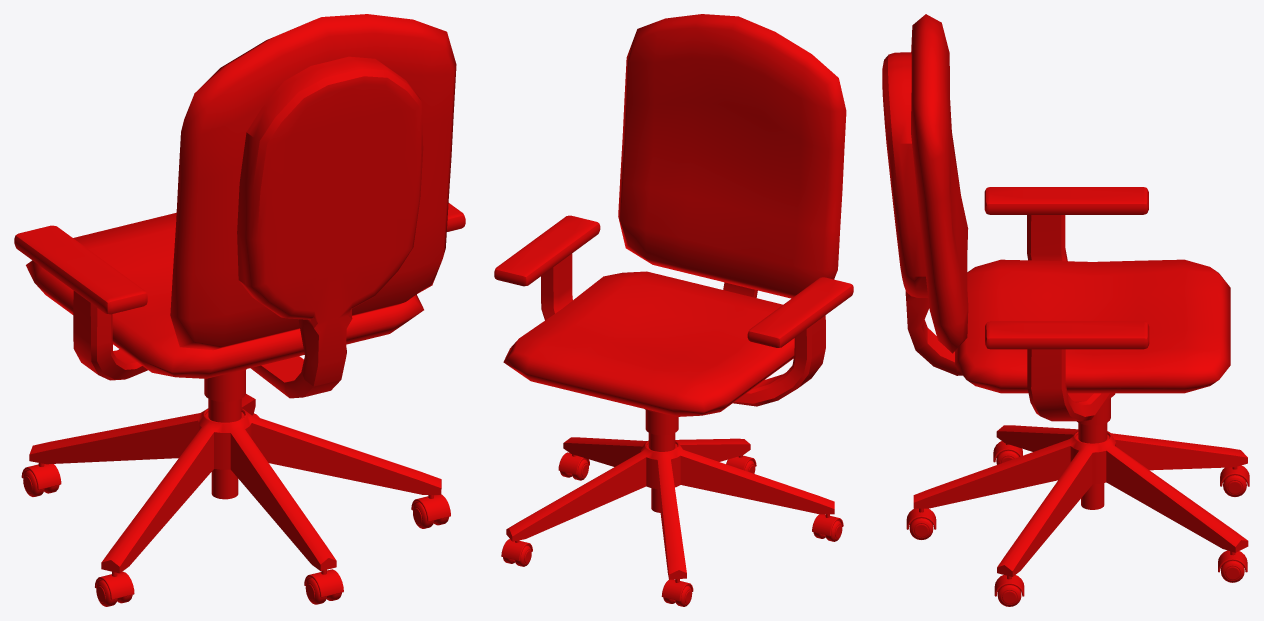
Rendered from Chair_Full_FBX.fbx.
The picture shows the model from 3 angles, left to right: view 1: azimuth 30°, elevation 25°; view 2: azimuth 150°, elevation 25°; view 3: azimuth 270°, elevation 25°; orthographic projection. The views are drawn at different scales.
Visible parts, largest first — view 1: Chair28; view 2: Chair28; view 3: Chair28.
Part boxes in pixels (x1,y1,x2,y2): Chair28: [14, 14, 465, 606]; Chair28: [494, 14, 853, 606]; Chair28: [882, 14, 1249, 606].
Size of the model in its own units: 399 by 614 by 405.
